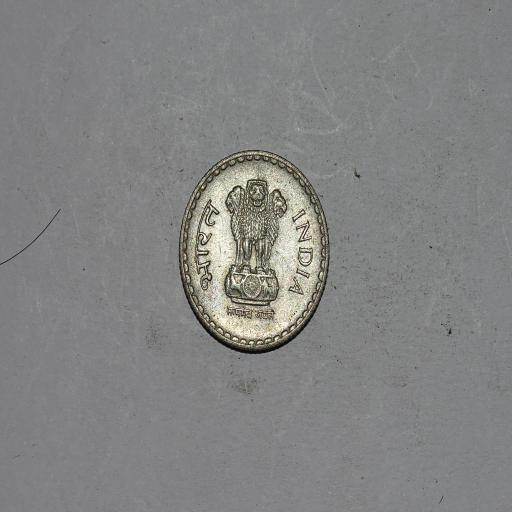rupee5: (171, 149, 332, 356)
